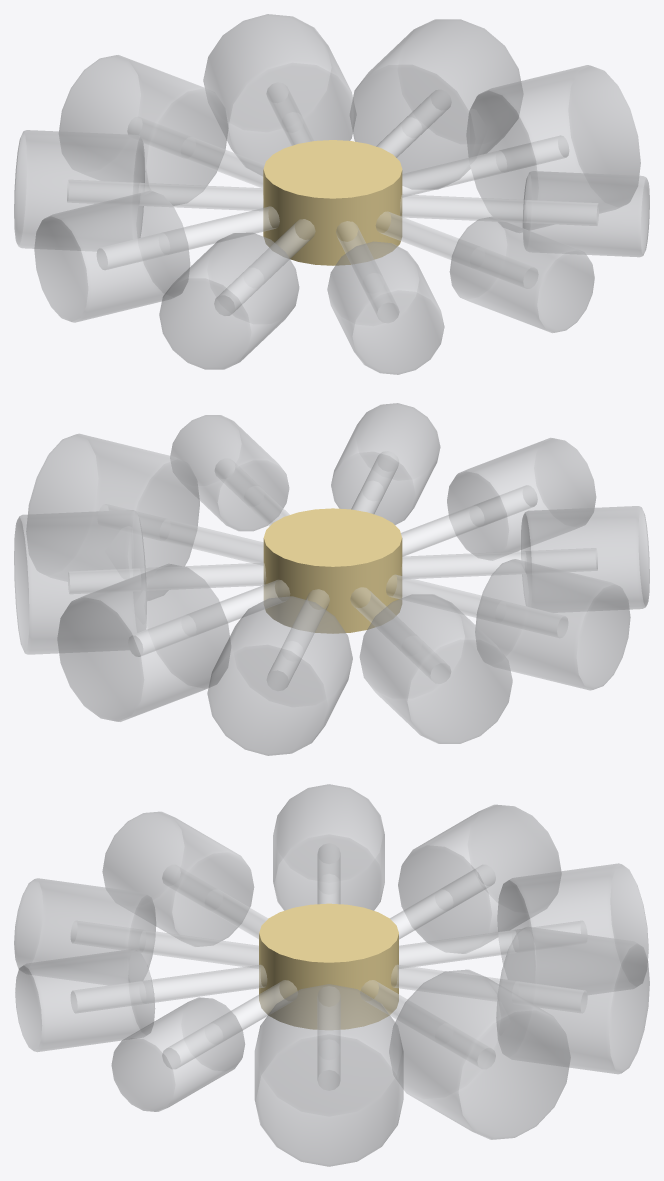
Rendered from nail-sizing-kit-wheel.glb.
The picture shows the model from 3 angles, top to bottom: view 1: azimuth 30°, elevation 25°; view 2: azimuth 150°, elevation 25°; view 3: azimuth 270°, elevation 25°; orthographic projection.
Parts seen in each view (by area): view 1: sizing_TipSize_0, sizing_TipSize_1, sizing_TipSize_3, sizing_TipSize_2, sizing_CenterBrassRivet, sizing_TipSize_5, sizing_TipSize_4, sizing_TipSize_6, sizing_TipSize_8, sizing_TipSize_7, sizing_TipSize_9, sizing_Spoke_9 (+9 smaller); view 2: sizing_TipSize_2, sizing_TipSize_0, sizing_TipSize_1, sizing_TipSize_3, sizing_TipSize_4, sizing_CenterBrassRivet, sizing_TipSize_5, sizing_TipSize_7, sizing_TipSize_6, sizing_TipSize_8, sizing_TipSize_9, sizing_Spoke_6 (+9 smaller); view 3: sizing_TipSize_0, sizing_TipSize_1, sizing_TipSize_2, sizing_TipSize_4, sizing_CenterBrassRivet, sizing_TipSize_3, sizing_TipSize_6, sizing_TipSize_7, sizing_TipSize_5, sizing_TipSize_8, sizing_TipSize_9, sizing_Spoke_8 (+9 smaller).
Part boxes in pixels (left/top/right/bottom): sizing_TipSize_0: left=466, top=65, right=640, bottom=232; sizing_TipSize_1: left=350, top=19, right=523, bottom=189; sizing_TipSize_3: left=59, top=55, right=228, bottom=205; sizing_TipSize_2: left=203, top=14, right=356, bottom=175; sizing_CenterBrassRivet: left=263, top=140, right=402, bottom=265; sizing_TipSize_5: left=34, top=190, right=190, bottom=322; sizing_TipSize_4: left=14, top=130, right=145, bottom=251; sizing_TipSize_6: left=159, top=232, right=299, bottom=369; sizing_TipSize_8: left=449, top=216, right=594, bottom=332; sizing_TipSize_7: left=327, top=241, right=444, bottom=374; sizing_TipSize_9: left=522, top=171, right=649, bottom=257; sizing_Spoke_9: left=400, top=194, right=598, bottom=225; sizing_TipSize_2: left=57, top=563, right=230, bottom=721; sizing_TipSize_0: left=26, top=433, right=199, bottom=600; sizing_TipSize_1: left=14, top=510, right=146, bottom=654; sizing_TipSize_3: left=207, top=596, right=352, bottom=755; sizing_TipSize_4: left=359, top=594, right=512, bottom=743; sizing_CenterBrassRivet: left=263, top=508, right=402, bottom=633; sizing_TipSize_5: left=475, top=559, right=630, bottom=690; sizing_TipSize_7: left=447, top=438, right=596, bottom=560; sizing_TipSize_6: left=521, top=506, right=649, bottom=612; sizing_TipSize_8: left=331, top=403, right=440, bottom=524; sizing_TipSize_9: left=170, top=415, right=289, bottom=531; sizing_Spoke_6: left=402, top=548, right=597, bottom=578; sizing_TipSize_0: left=254, top=984, right=403, bottom=1166; sizing_TipSize_1: left=389, top=969, right=570, bottom=1139; sizing_TipSize_2: left=496, top=926, right=649, bottom=1074; sizing_TipSize_4: left=398, top=804, right=561, bottom=953; sizing_CenterBrassRivet: left=259, top=903, right=398, bottom=1029; sizing_TipSize_3: left=497, top=863, right=648, bottom=994; sizing_TipSize_6: left=102, top=811, right=254, bottom=946; sizing_TipSize_7: left=14, top=878, right=156, bottom=985; sizing_TipSize_5: left=273, top=784, right=384, bottom=910; sizing_TipSize_8: left=15, top=949, right=155, bottom=1051; sizing_TipSize_9: left=111, top=997, right=244, bottom=1111; sizing_Spoke_8: left=70, top=964, right=266, bottom=1013.
Size of the model in its own units: 0.136 by 0.032 by 0.1364.
